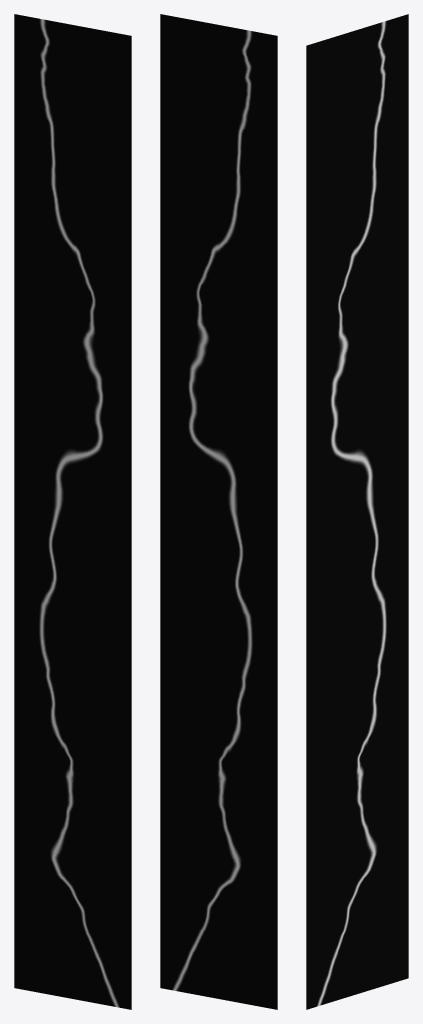
File: LightningMesh_B.fbx
3 renders of one model, left to right at view 1: azimuth 30°, elevation 25°; view 2: azimuth 210°, elevation 25°; view 3: azimuth 270°, elevation 25°, orthographic.
Parts seen in each view (by area): view 1: LightningMesh_B; view 2: LightningMesh_B; view 3: LightningMesh_B.
Part boxes in pixels (left/top/right/bottom): LightningMesh_B: left=14, top=14, right=131, bottom=1009; LightningMesh_B: left=160, top=14, right=277, bottom=1009; LightningMesh_B: left=306, top=14, right=408, bottom=1009.
Size of the model in its own units: 0.0706 by 1 by 0.0965.
